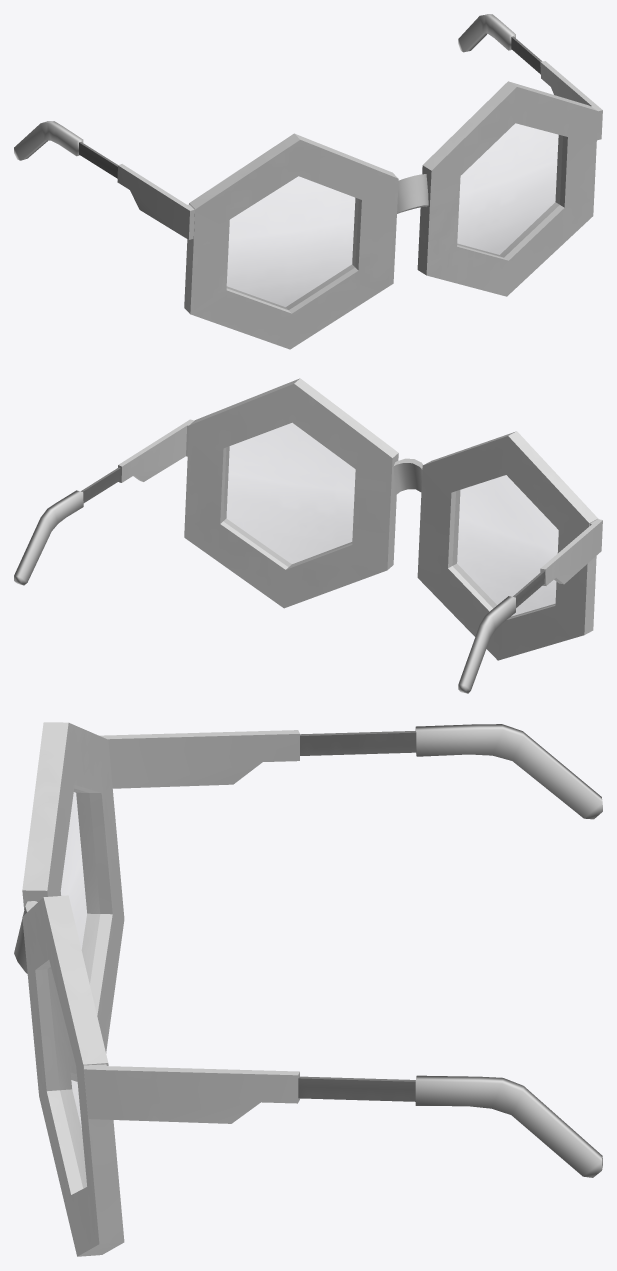
Rendered from p0_eyw1000_00_eyw00.gltf.
3 renders of one model, top to bottom at view 1: azimuth 30°, elevation 25°; view 2: azimuth 150°, elevation 25°; view 3: azimuth 270°, elevation 25°, orthographic. The views are drawn at different scales.
Visible parts, largest first — view 1: eyw00_frame_mesh_shape:eyewear, eyw00_lens_mesh_shape:eyewear, eyw00_temple_mesh_shape:eyewear; view 2: eyw00_frame_mesh_shape:eyewear, eyw00_lens_mesh_shape:eyewear, eyw00_temple_mesh_shape:eyewear; view 3: eyw00_frame_mesh_shape:eyewear, eyw00_temple_mesh_shape:eyewear, eyw00_lens_mesh_shape:eyewear.
Boxes of the visible parts, box(x1,y1,x2,y2) form: eyw00_frame_mesh_shape:eyewear: box(184, 81, 598, 349); eyw00_lens_mesh_shape:eyewear: box(227, 148, 561, 309); eyw00_temple_mesh_shape:eyewear: box(14, 14, 602, 239); eyw00_frame_mesh_shape:eyewear: box(184, 378, 598, 660); eyw00_lens_mesh_shape:eyewear: box(223, 461, 556, 617); eyw00_temple_mesh_shape:eyewear: box(14, 419, 602, 693); eyw00_frame_mesh_shape:eyewear: box(14, 722, 124, 1256); eyw00_temple_mesh_shape:eyewear: box(84, 724, 602, 1177); eyw00_lens_mesh_shape:eyewear: box(53, 836, 99, 1188).
Size of what is drawn, in the model's own units: 0.2135 by 0.0983 by 0.1456.
1 material, 1 textured.
